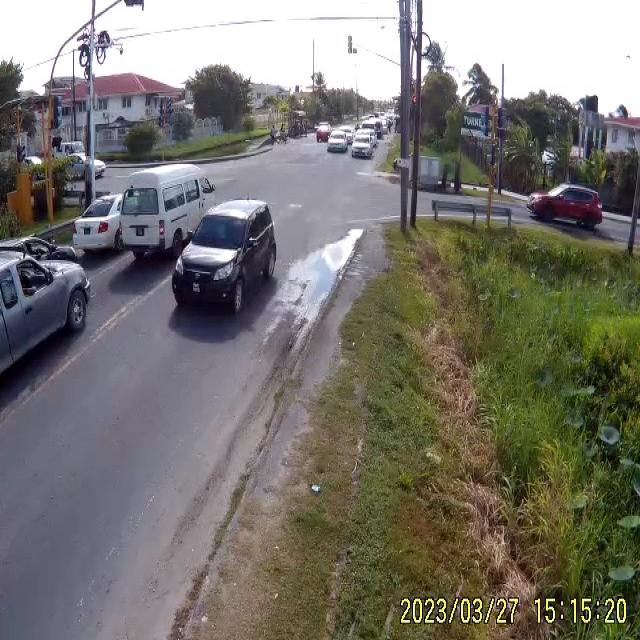car: (0, 250, 92, 384), (172, 199, 278, 312), (118, 166, 212, 261), (528, 184, 605, 228), (75, 194, 126, 256), (353, 136, 376, 159), (327, 134, 348, 153), (314, 122, 329, 142)
